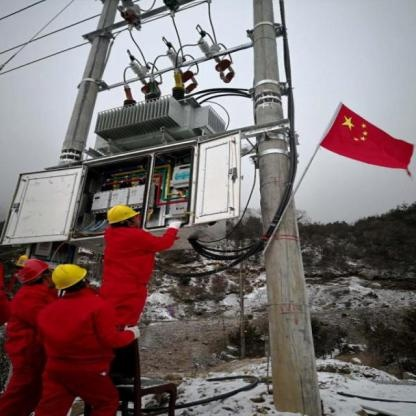red: (14, 255, 55, 284)
yellow: (53, 262, 97, 294), (105, 201, 146, 223)
